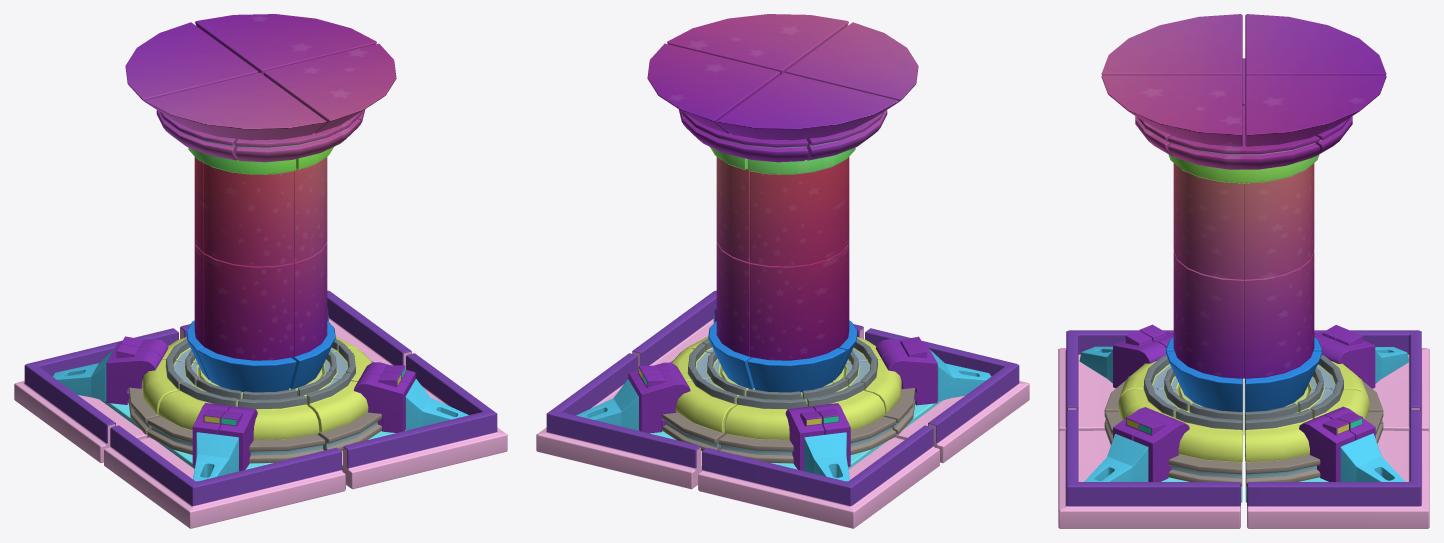
The picture shows the model from 3 angles, left to right: view 1: azimuth 30°, elevation 25°; view 2: azimuth 150°, elevation 25°; view 3: azimuth 270°, elevation 25°; orthographic projection. The views are drawn at different scales.
Parts seen in each view (by area): view 1: X_Project_70, X_Project_71, X_Project_18, X_Project_13, X_Project_2, X_Project_69, X_Project_1, X_Project_4, X_Project_3, X_Project_17, X_Project_12, X_Project_56 (+23 smaller); view 2: X_Project_69, X_Project_72, X_Project_15, X_Project_14, X_Project_3, X_Project_70, X_Project_4, X_Project_1, X_Project_2, X_Project_16, X_Project_11, X_Project_53 (+23 smaller); view 3: X_Project_71, X_Project_72, X_Project_1, X_Project_4, X_Project_16, X_Project_17, X_Project_2, X_Project_3, X_Project_11, X_Project_12, X_Project_70, X_Project_69 (+24 smaller).
Part boxes in pixels (x1,y1,x2,y2): X_Project_70: (104, 425, 345, 528); X_Project_71: (342, 353, 507, 489); X_Project_18: (203, 253, 293, 360); X_Project_13: (203, 163, 293, 266); X_Project_2: (145, 72, 326, 140); X_Project_69: (14, 328, 178, 463); X_Project_1: (263, 43, 396, 133); X_Project_4: (195, 14, 376, 74); X_Project_3: (125, 22, 258, 101); X_Project_17: (293, 242, 327, 356); X_Project_12: (294, 157, 327, 262); X_Project_56: (238, 389, 319, 439); X_Project_69: (698, 425, 939, 528); X_Project_72: (536, 353, 701, 489); X_Project_15: (750, 253, 840, 360); X_Project_14: (750, 163, 840, 266); X_Project_3: (717, 72, 898, 140); X_Project_70: (865, 328, 1029, 463); X_Project_4: (647, 43, 780, 133); X_Project_1: (667, 14, 848, 74); X_Project_2: (785, 22, 918, 101); X_Project_16: (716, 242, 750, 356); X_Project_11: (716, 157, 749, 262); X_Project_53: (724, 389, 805, 439); X_Project_71: (1058, 410, 1240, 528); X_Project_72: (1247, 410, 1429, 528); X_Project_1: (1101, 75, 1242, 146); X_Project_4: (1245, 75, 1386, 146); X_Project_16: (1244, 251, 1314, 378); X_Project_17: (1173, 251, 1243, 378); X_Project_2: (1101, 14, 1242, 75); X_Project_3: (1245, 14, 1386, 75); X_Project_11: (1244, 163, 1314, 279); X_Project_12: (1173, 163, 1243, 279); X_Project_70: (1058, 330, 1173, 431); X_Project_69: (1314, 330, 1429, 431).
Bounding box in the file's own units: 5.3 × 5.66 × 5.09.
